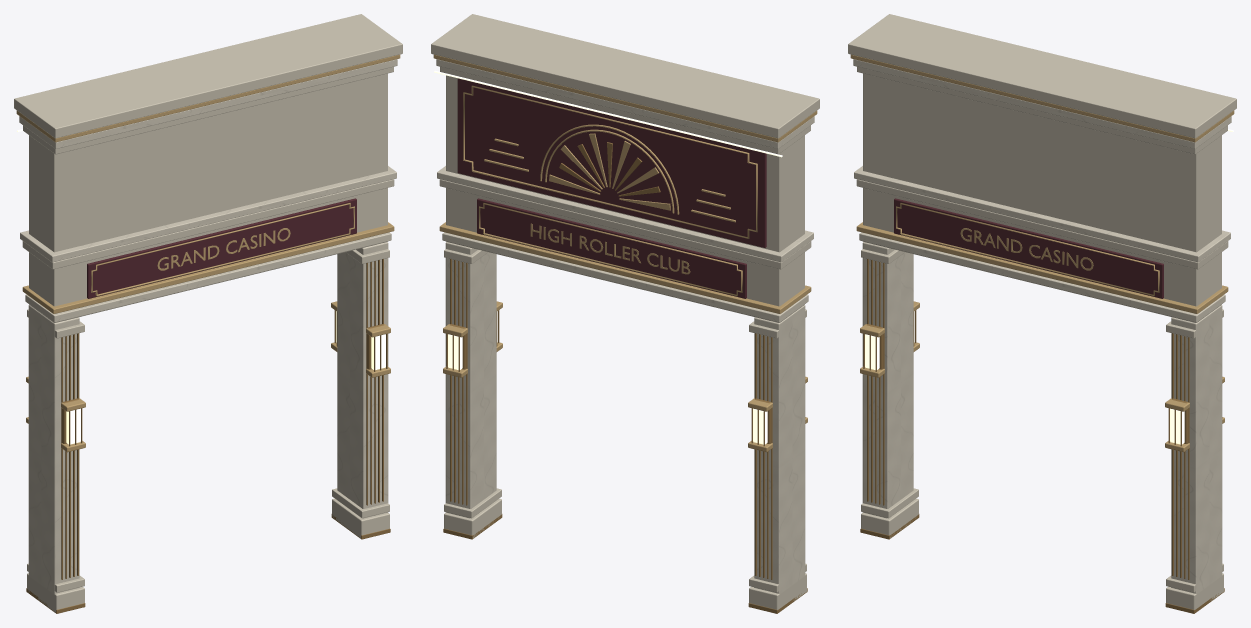
File: casino-deco-portal-vip.glb
The picture shows the model from 3 angles, left to right: view 1: azimuth 30°, elevation 25°; view 2: azimuth 150°, elevation 25°; view 3: azimuth 330°, elevation 25°; orthographic projection.
Parts seen in each view (by area): view 1: portal-vip / Entry carved limestone, portal-vip / Entry ivory marble, portal-vip / Entry smoky oxblood lacquer, portal-vip / Entry champagne brass, portal-vip / Entry aged bronze, portal-vip / Entry warm opal; view 2: portal-vip / Entry carved limestone, portal-vip / Entry smoky oxblood lacquer, portal-vip / Entry ivory marble, portal-vip / Entry champagne brass, portal-vip / Entry aged bronze, portal-vip / Entry warm opal; view 3: portal-vip / Entry carved limestone, portal-vip / Entry ivory marble, portal-vip / Entry smoky oxblood lacquer, portal-vip / Entry champagne brass, portal-vip / Entry aged bronze, portal-vip / Entry warm opal.
Part boxes in pixels (left/top/right/bottom): portal-vip / Entry carved limestone: left=14, top=14, right=402, bottom=612; portal-vip / Entry ivory marble: left=19, top=59, right=397, bottom=593; portal-vip / Entry smoky oxblood lacquer: left=87, top=198, right=356, bottom=298; portal-vip / Entry champagne brass: left=16, top=54, right=400, bottom=452; portal-vip / Entry aged bronze: left=26, top=259, right=390, bottom=613; portal-vip / Entry warm opal: left=17, top=129, right=385, bottom=444; portal-vip / Entry carved limestone: left=431, top=14, right=819, bottom=609; portal-vip / Entry smoky oxblood lacquer: left=457, top=78, right=766, bottom=298; portal-vip / Entry ivory marble: left=436, top=59, right=814, bottom=593; portal-vip / Entry champagne brass: left=433, top=54, right=817, bottom=452; portal-vip / Entry aged bronze: left=443, top=142, right=807, bottom=613; portal-vip / Entry warm opal: left=434, top=70, right=782, bottom=444; portal-vip / Entry carved limestone: left=848, top=14, right=1236, bottom=609; portal-vip / Entry ivory marble: left=853, top=59, right=1231, bottom=593; portal-vip / Entry smoky oxblood lacquer: left=894, top=198, right=1163, bottom=298; portal-vip / Entry champagne brass: left=850, top=54, right=1234, bottom=452; portal-vip / Entry aged bronze: left=860, top=259, right=1224, bottom=613; portal-vip / Entry warm opal: left=865, top=129, right=1233, bottom=444.
Bounding box in the file's own units: 5.04 × 6.8 × 1.04.
6 materials, 1 textured.
